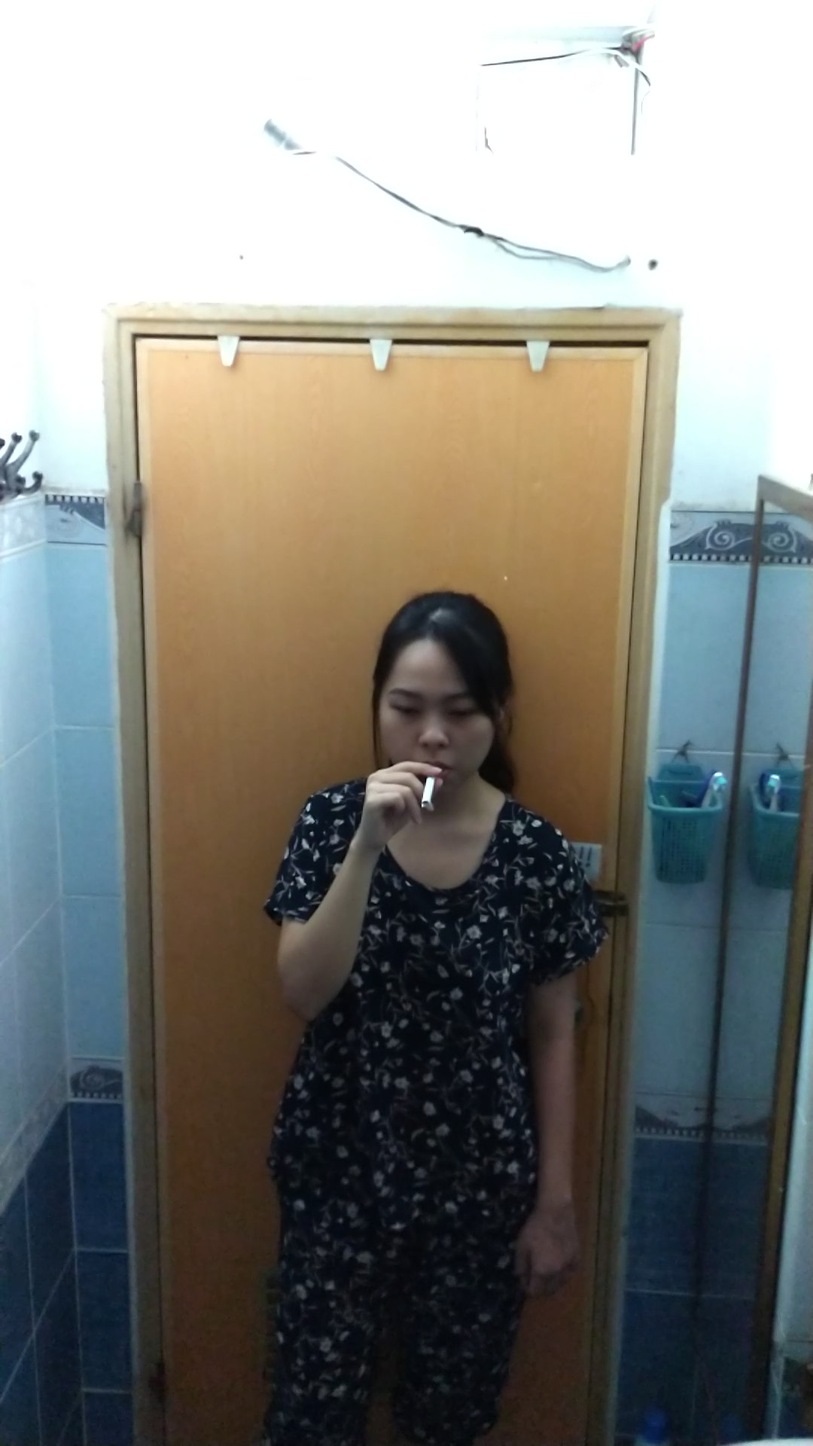cigarette: (416, 775, 440, 812)
person: (260, 569, 611, 1446)
